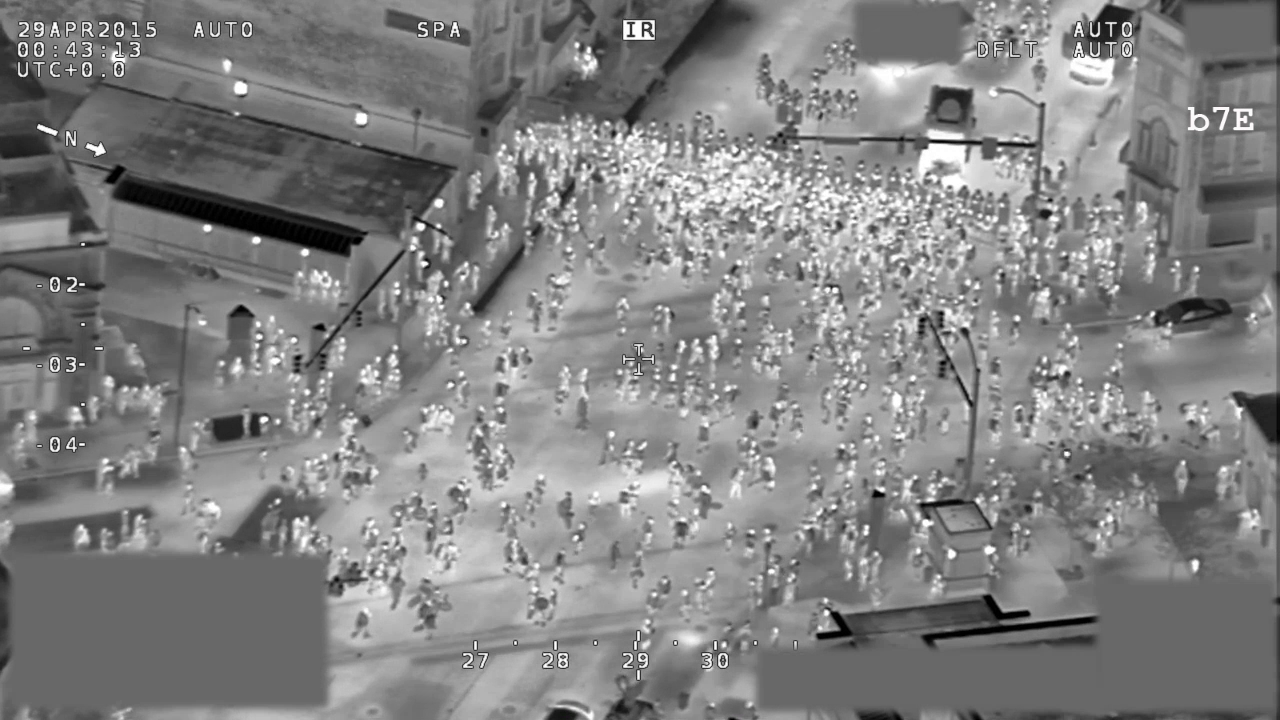vehicle: (912, 79, 983, 191), (1062, 1, 1143, 93), (1142, 286, 1239, 337)
